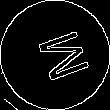M_W: (23, 25, 87, 85)
